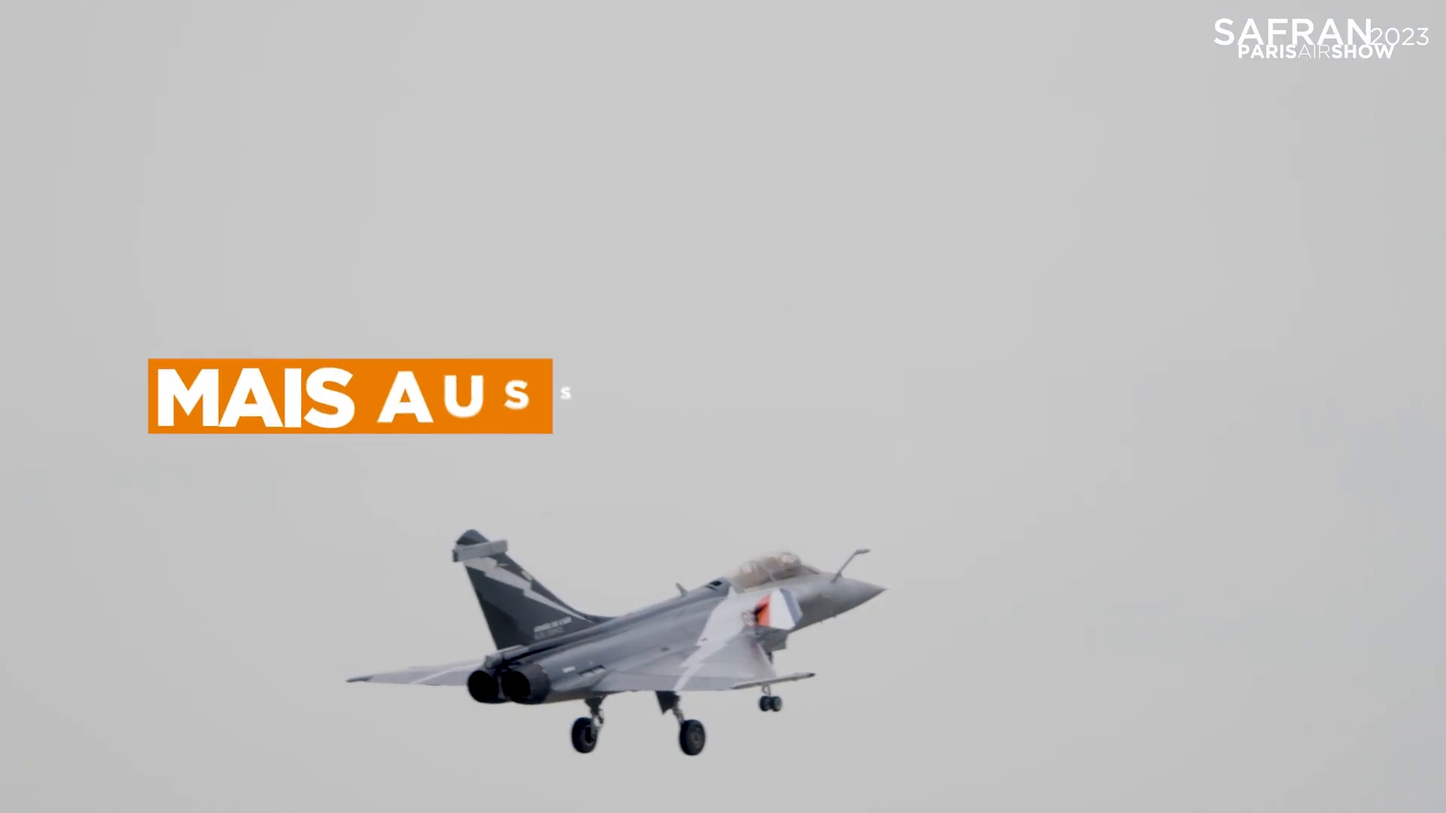Rafale: (345, 527, 890, 756)
